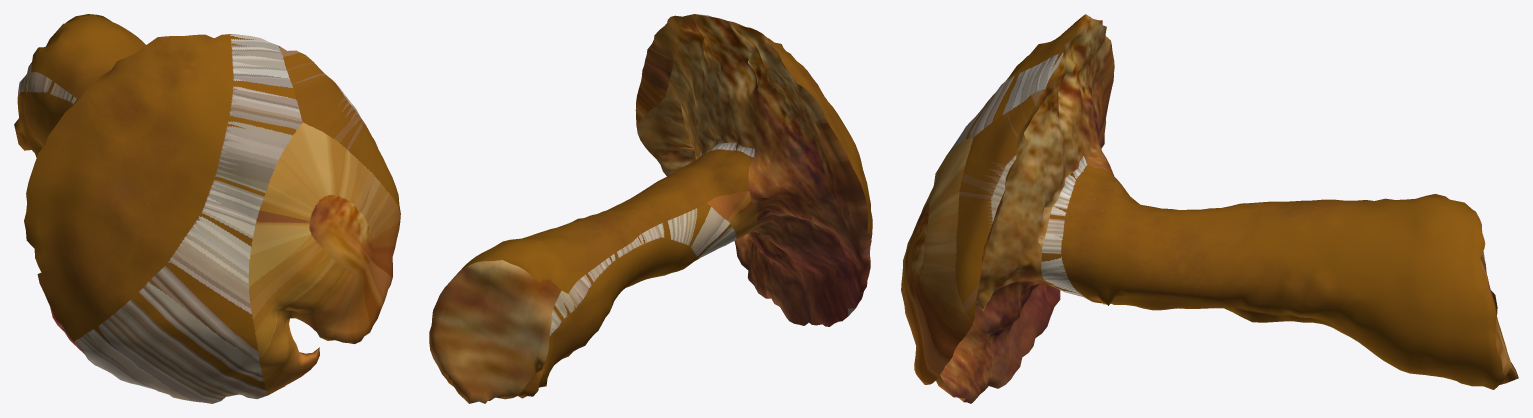
The picture shows the model from 3 angles, left to right: view 1: azimuth 30°, elevation 25°; view 2: azimuth 150°, elevation 25°; view 3: azimuth 270°, elevation 25°; orthographic projection. The views are drawn at different scales.
Size of the model in its own units: 0.6277 by 0.6565 by 1.
